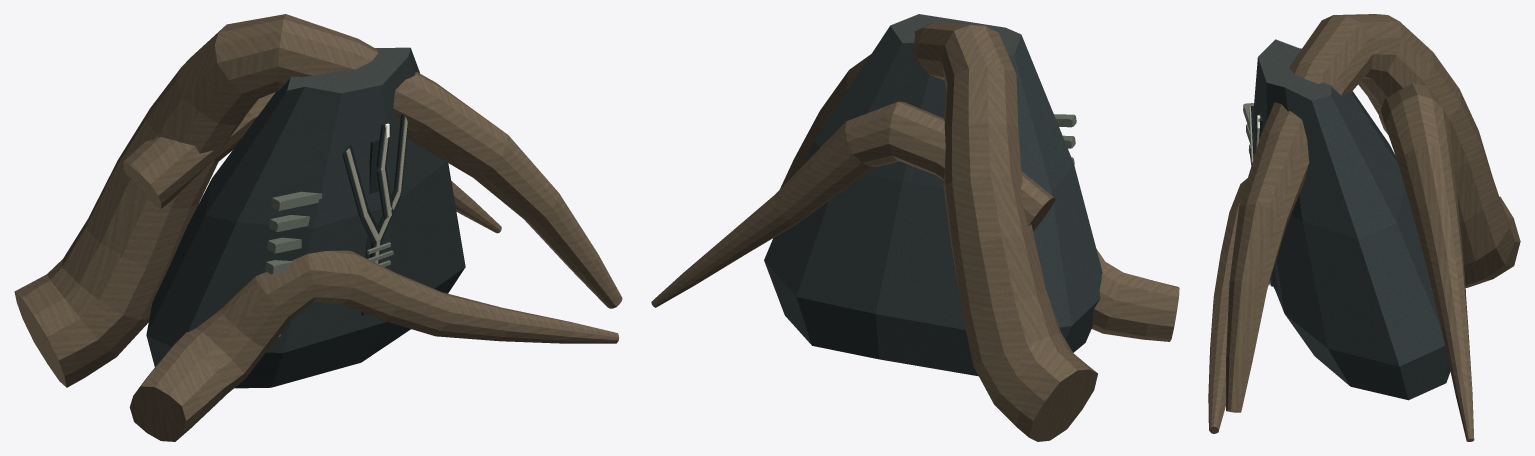
File: cataclysm_root_fragment.glb
3 views of the same model, side by side, from view 1: azimuth 30°, elevation 25°; view 2: azimuth 150°, elevation 25°; view 3: azimuth 270°, elevation 25° (orthographic). The views are drawn at different scales.
Parts seen in each view (by area): view 1: cataclysm_root_fragment; view 2: cataclysm_root_fragment; view 3: cataclysm_root_fragment.
Boxes of the visible parts, x1,y1,x2,y2 form: cataclysm_root_fragment: (14,14,622,441); cataclysm_root_fragment: (651,14,1179,441); cataclysm_root_fragment: (1208,14,1520,441).
Bounding box in the file's own units: 3.55 × 2.66 × 2.22.
Materials: 4 (4 with a texture image).
